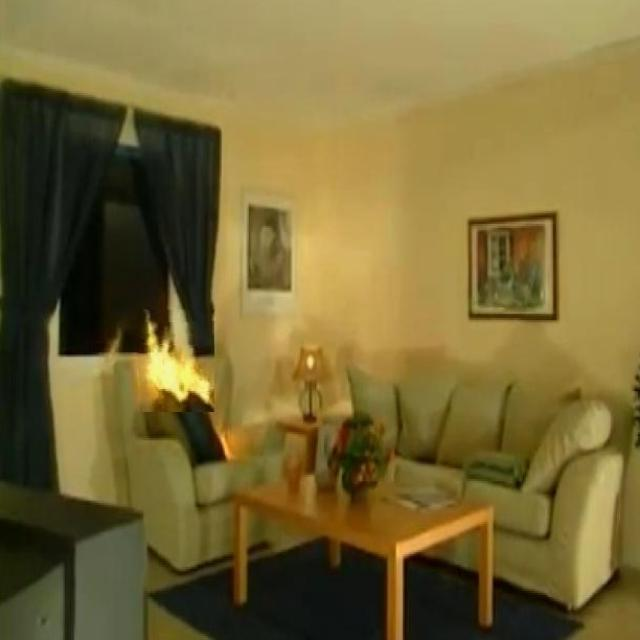smoke: (133, 303, 214, 412)
